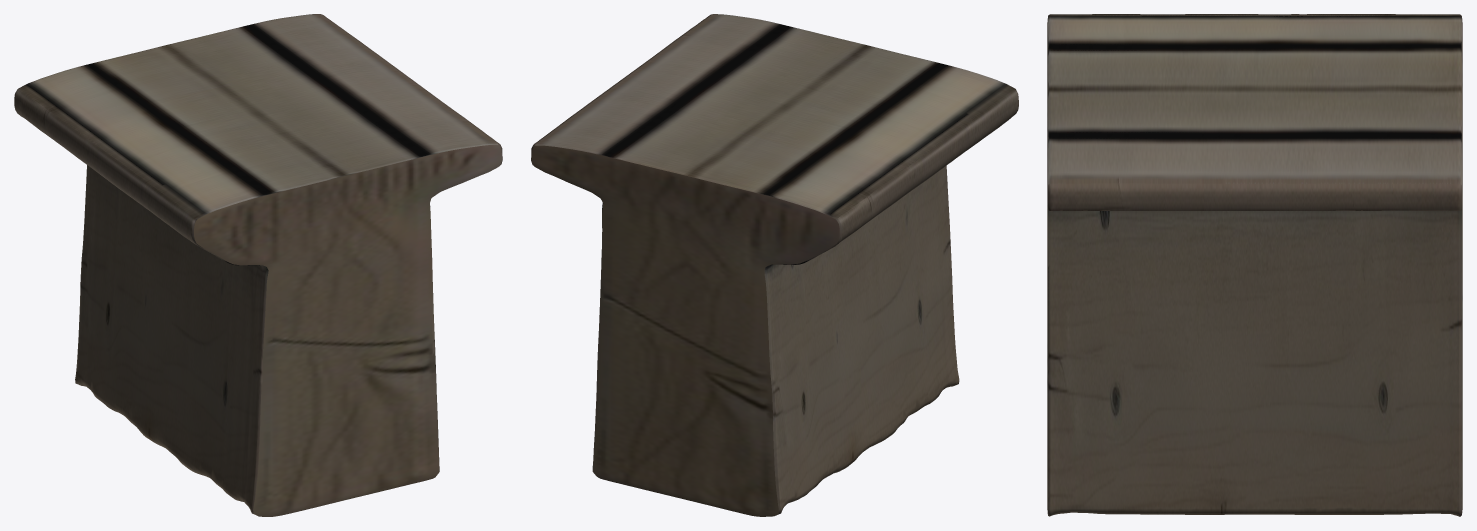
The model's file is roof-eaves.glb.
3 views of the same model, side by side, from view 1: azimuth 30°, elevation 25°; view 2: azimuth 150°, elevation 25°; view 3: azimuth 270°, elevation 25° (orthographic). The views are drawn at different scales.
Parts seen in each view (by area): view 1: tmp9tzpzllx.ply; view 2: tmp9tzpzllx.ply; view 3: tmp9tzpzllx.ply.
Part boxes in pixels (left/top/right/bottom): tmp9tzpzllx.ply: left=14, top=14, right=502, bottom=516; tmp9tzpzllx.ply: left=531, top=14, right=1018, bottom=516; tmp9tzpzllx.ply: left=1047, top=14, right=1462, bottom=516.
Bounding box in the file's own units: 1 × 1 × 1.
Materials: 1 (1 with a texture image).
